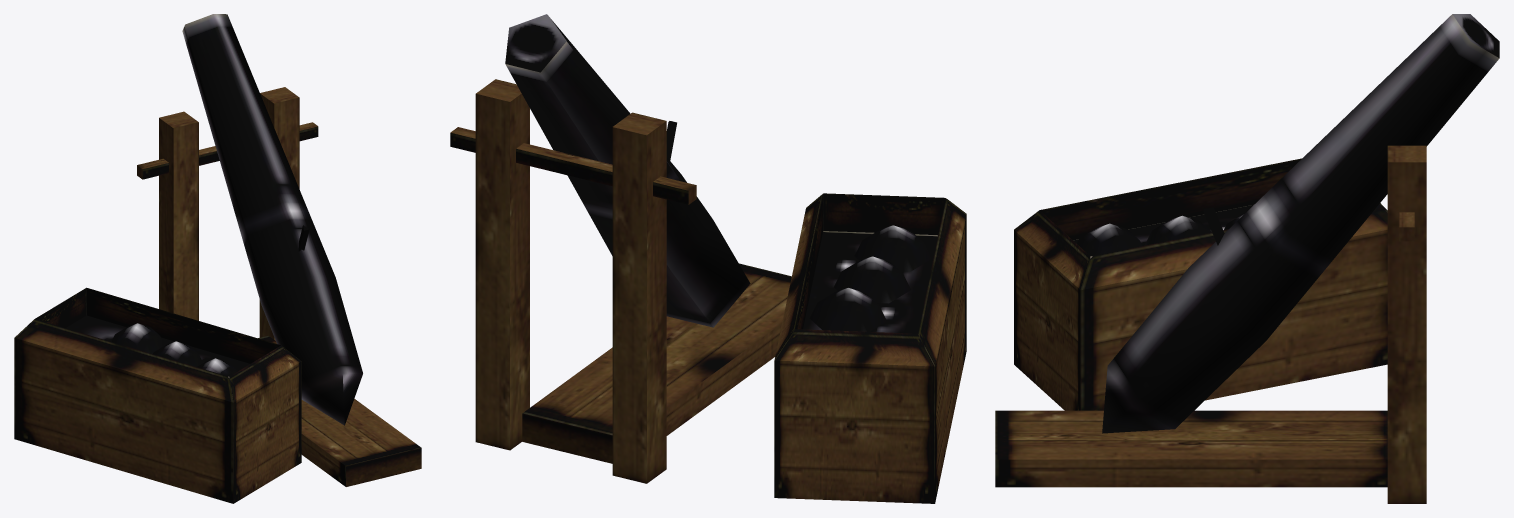
Rendered from Cannon02.obj.
3 views of the same model, side by side, from view 1: azimuth 30°, elevation 25°; view 2: azimuth 150°, elevation 25°; view 3: azimuth 270°, elevation 25° (orthographic). The views are drawn at different scales.
Visible parts, largest first — view 1: Mesh_0; view 2: Mesh_0; view 3: Mesh_0.
Part boxes in pixels (x1,y1,x2,y2): Mesh_0: [14, 14, 421, 503]; Mesh_0: [450, 14, 966, 503]; Mesh_0: [995, 14, 1499, 503].
Size of the model in its own units: 1.35 by 1.33 by 1.36.
1 material, 1 textured.
